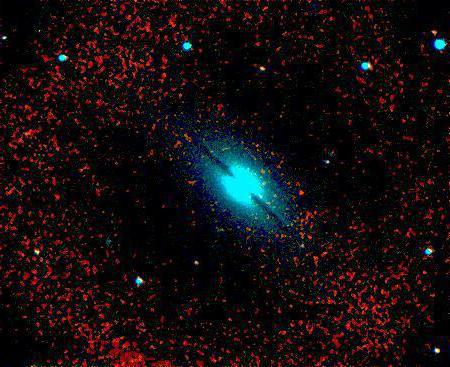star: (289, 175, 319, 205)
